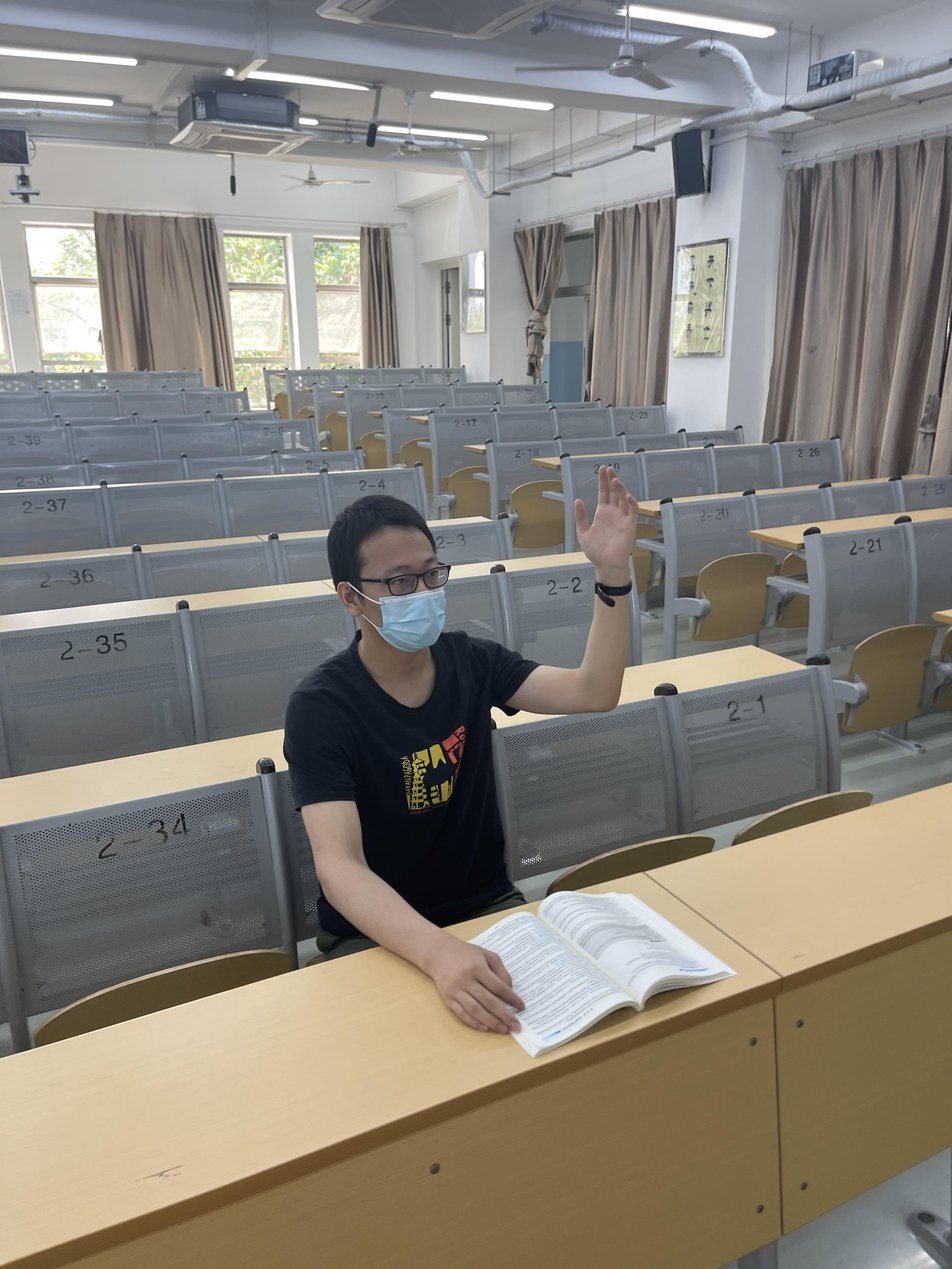study: (283, 467, 645, 1037)
